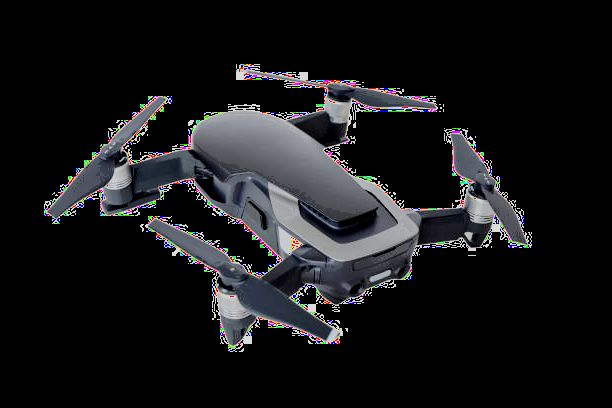Drone: (37, 55, 535, 351)
